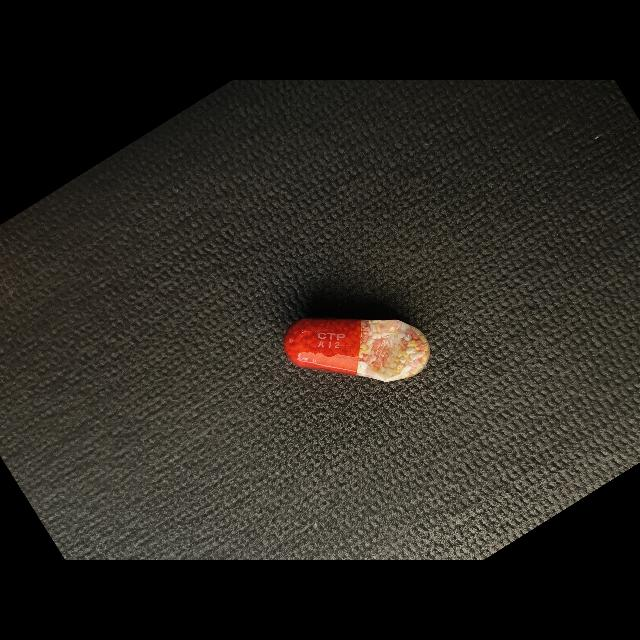Defective Capsule: (284, 319, 430, 382)
